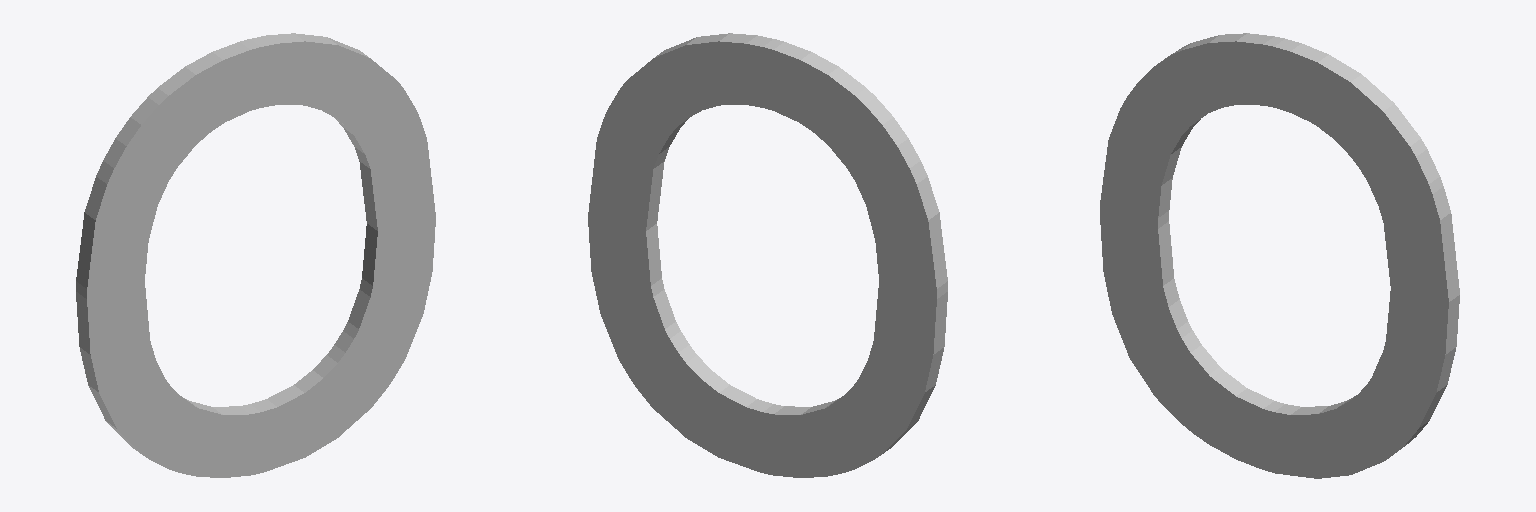
File: o_lower.obj
3 views of the same model, side by side, from view 1: azimuth 30°, elevation 25°; view 2: azimuth 150°, elevation 25°; view 3: azimuth 330°, elevation 25° (orthographic).
Parts seen in each view (by area): view 1: default; view 2: default; view 3: default.
Part boxes in pixels (left/top/right/bottom): default: left=76, top=33, right=435, bottom=477; default: left=588, top=33, right=947, bottom=477; default: left=1100, top=33, right=1459, bottom=478.
Bounding box in the file's own units: 1.8 × 2.1 × 0.1.